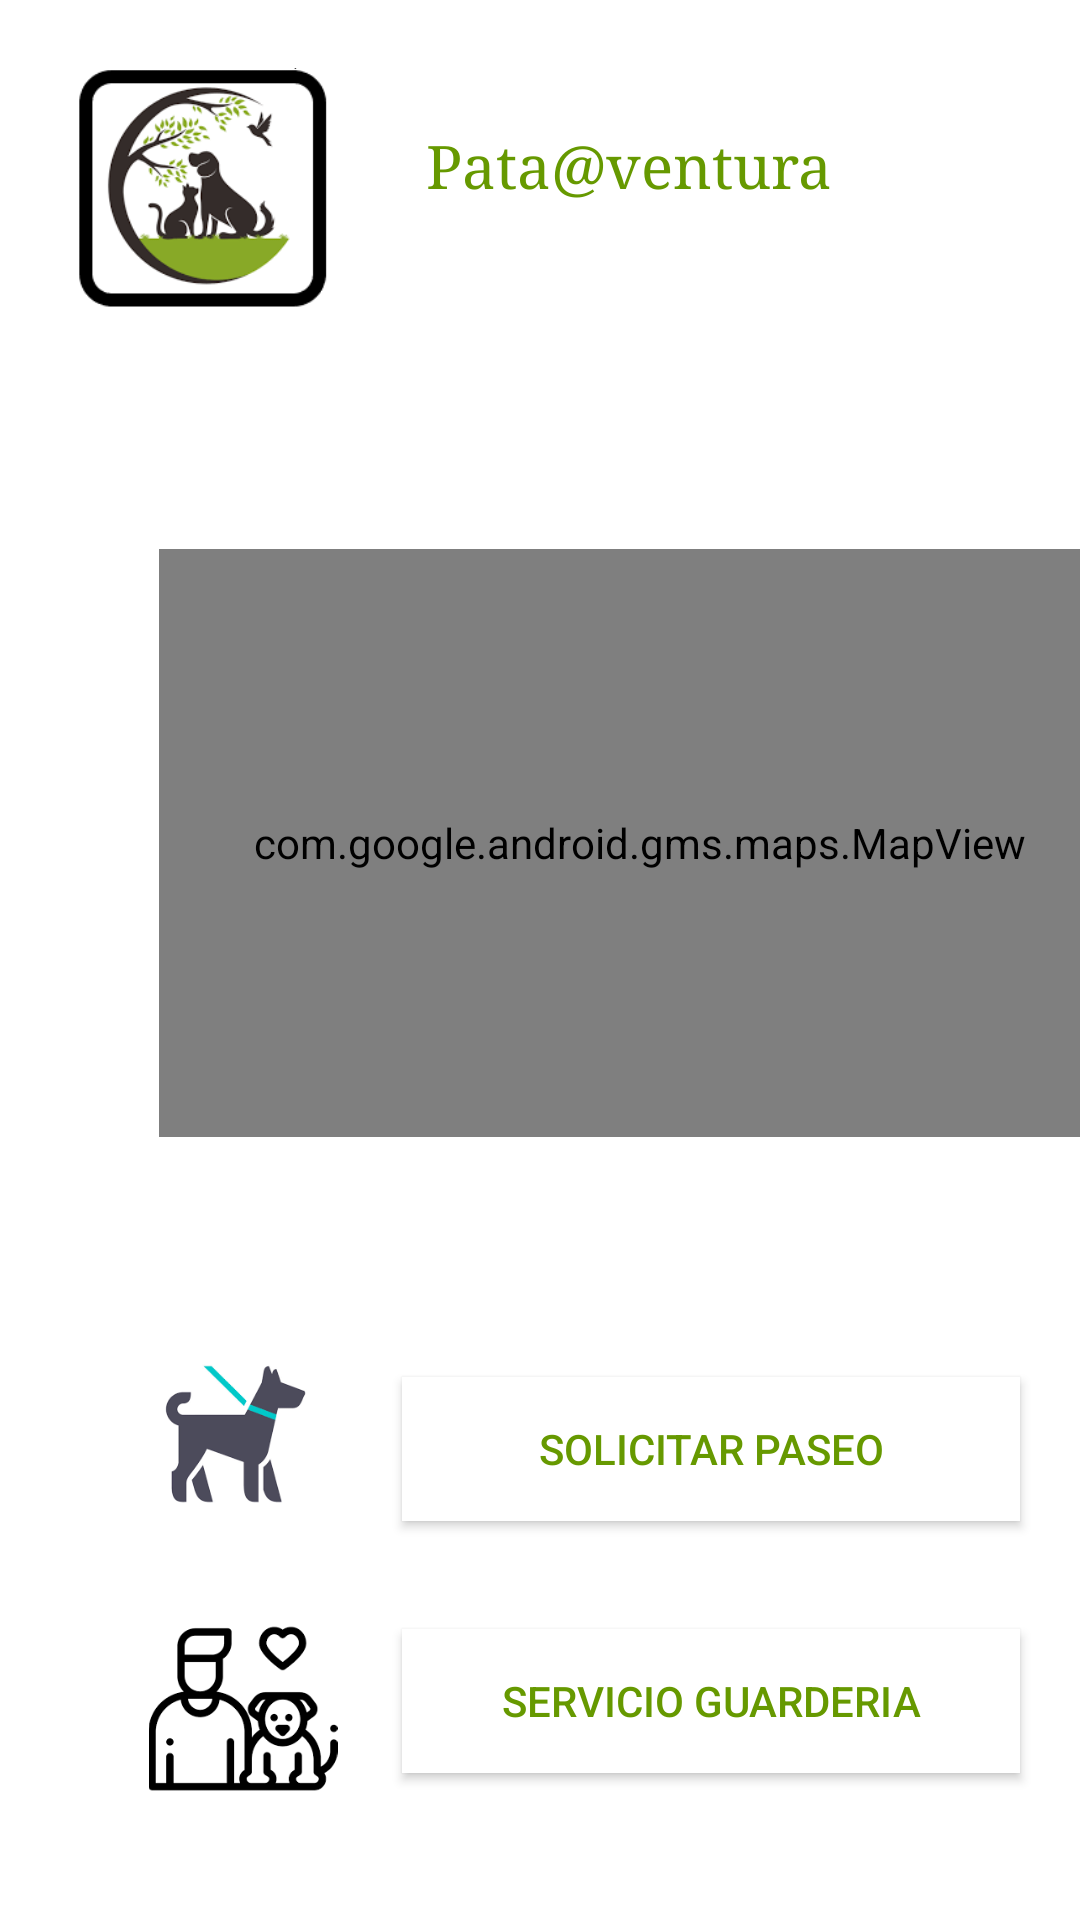

Locate icon controls on the screen. Image size 1080*1920, boxes as (x1, y1, x2, y2).
iconopropietario: (149, 1626, 338, 1791)
